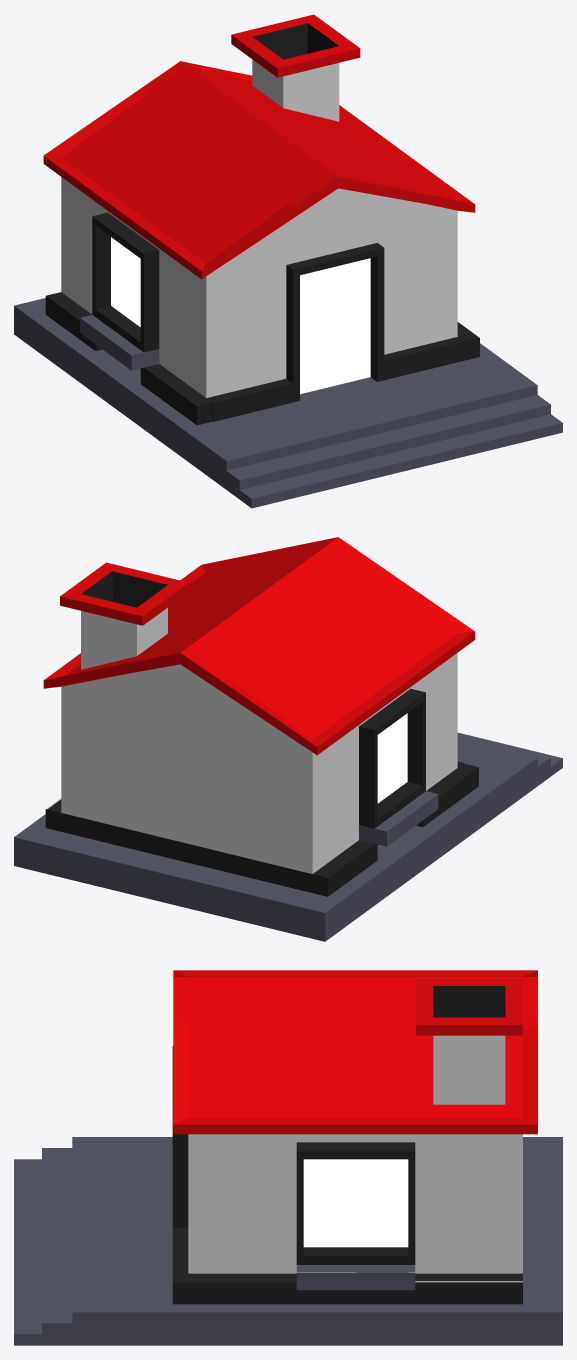
File: CASA.fbx
The picture shows the model from 3 angles, top to bottom: view 1: azimuth 30°, elevation 25°; view 2: azimuth 150°, elevation 25°; view 3: azimuth 270°, elevation 25°; orthographic projection. The views are drawn at different scales.
Visible parts, largest first — view 1: Cube; view 2: Cube; view 3: Cube.
Boxes of the visible parts, x1,y1,x2,y2 form: Cube: (14, 14, 562, 508); Cube: (14, 537, 562, 941); Cube: (14, 970, 562, 1345).
Size of the model in its own units: 301 by 244 by 399.
